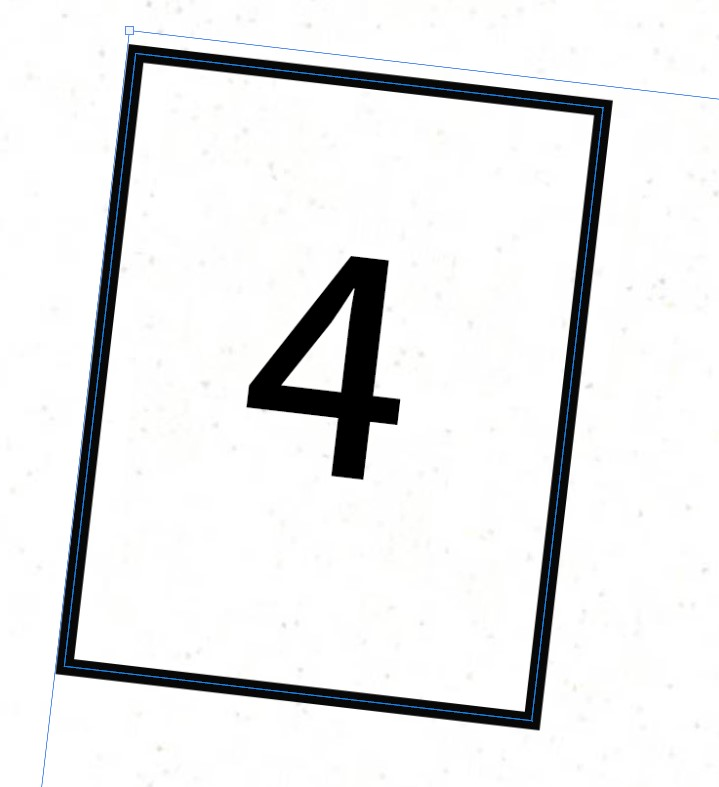four: (209, 196, 485, 547)
